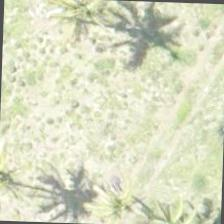Kelapa_Sawit: (100, 6, 194, 100), (94, 167, 187, 223), (35, 0, 128, 52)
